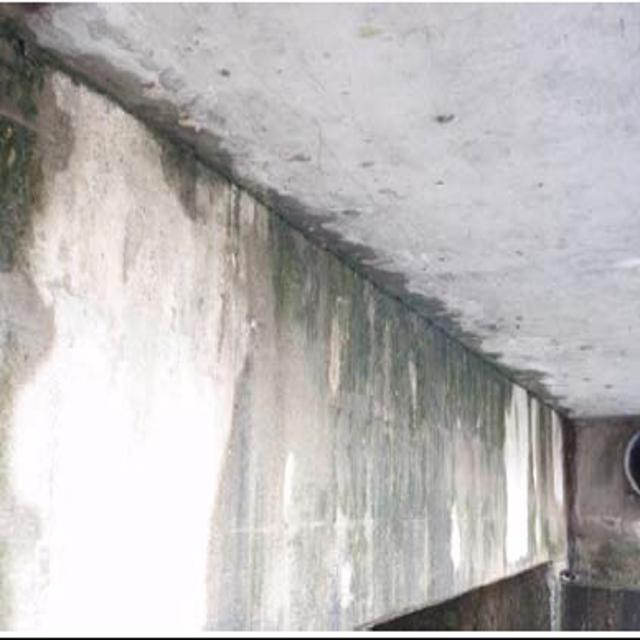leakage: (230, 197, 549, 612)
